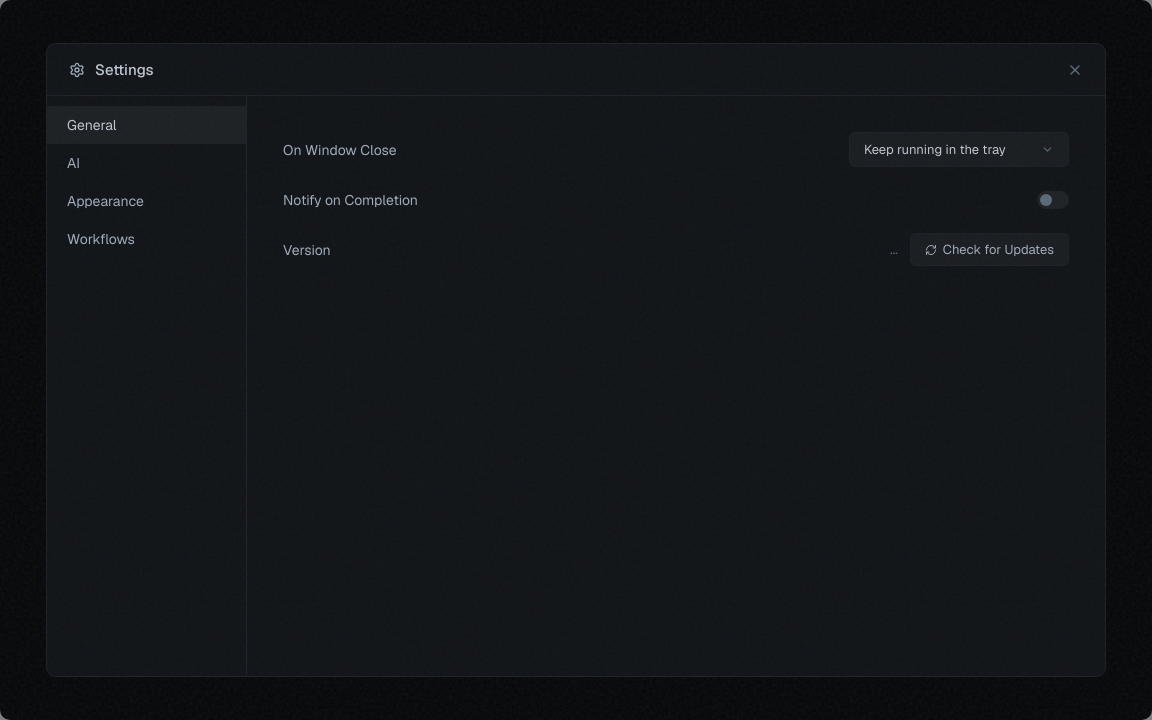
SettingsOverlay model selector › shows the live availableModels label for the selected model
What coordinates should you click on to do the following:
click the text "AI"
I would click on:
 (74, 163)
Its box is [67,154,80,172].
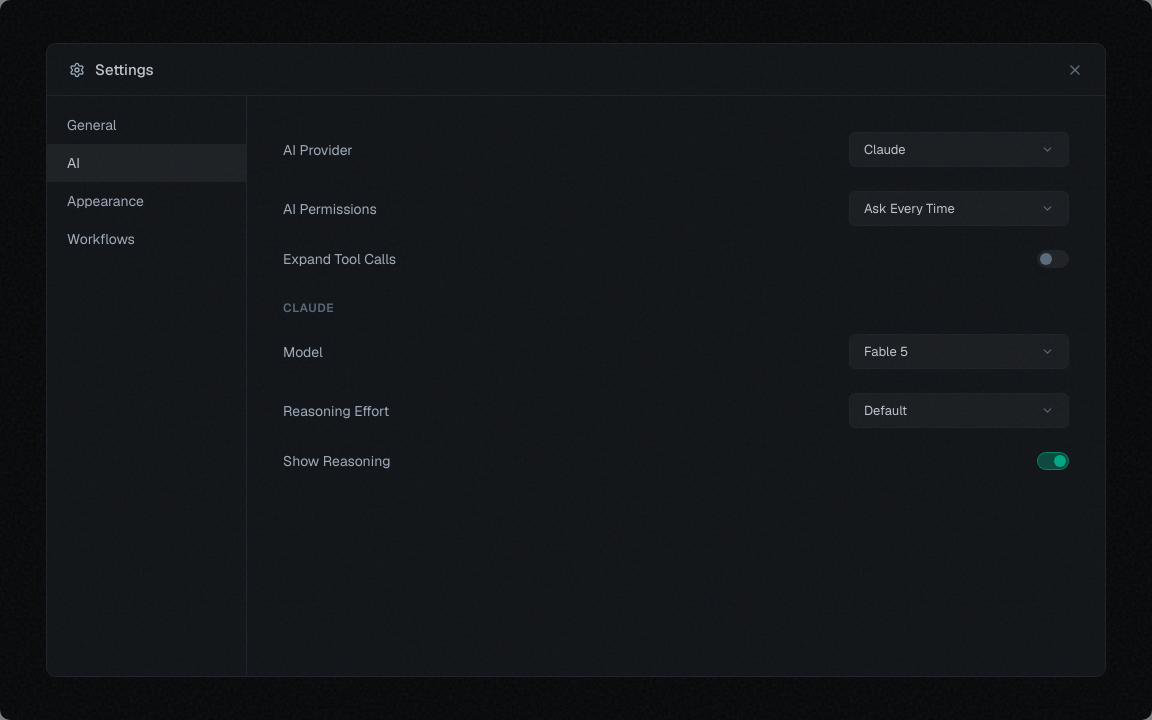
Expected: the text "Fable 5" is shown, [864,343,908,360]
